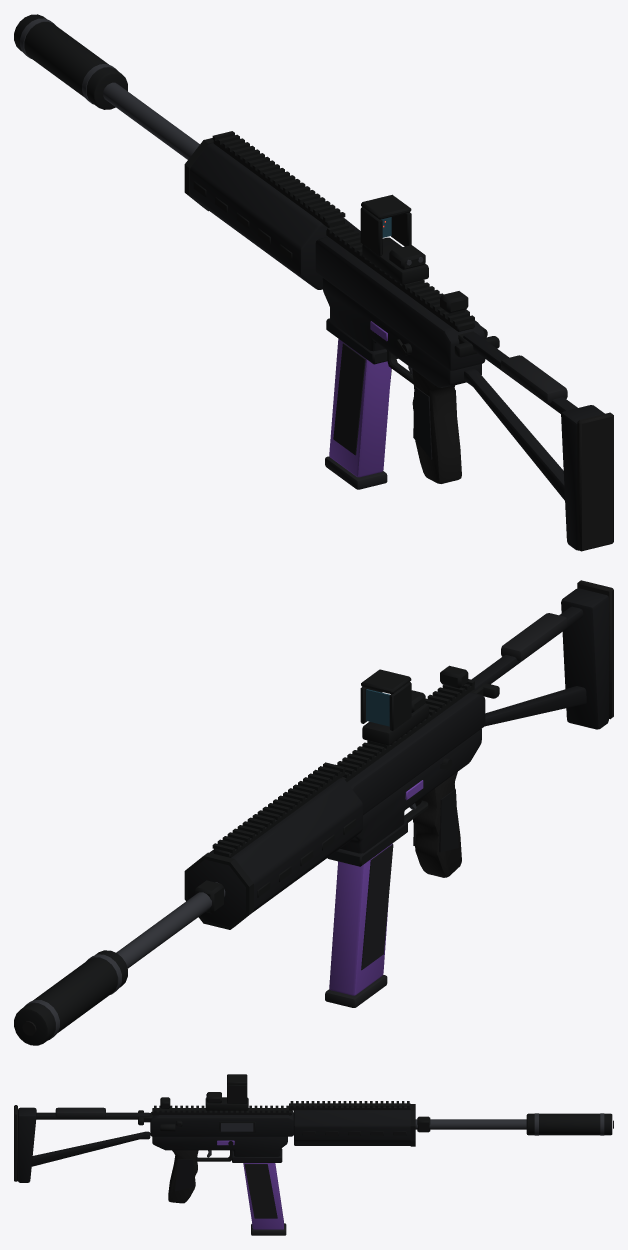
Rendered from gun_39.glb.
The picture shows the model from 3 angles, top to bottom: view 1: azimuth 30°, elevation 25°; view 2: azimuth 150°, elevation 25°; view 3: azimuth 270°, elevation 25°; orthographic projection. The views are drawn at different scales.
Visible parts, largest first — view 1: gun_39; view 2: gun_39; view 3: gun_39.
Part boxes in pixels (x1=…): gun_39: x1=14, y1=14, x2=613, y2=551; gun_39: x1=14, y1=580, x2=613, y2=1045; gun_39: x1=14, y1=1074, x2=613, y2=1235.
Bounding box in the file's own units: 0.0786 × 0.3375 × 1.19.
